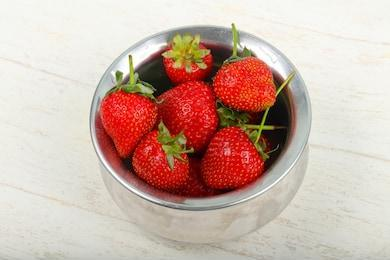Fresa: (150, 78, 232, 157), (97, 81, 165, 162), (124, 122, 197, 197), (195, 123, 270, 195), (210, 49, 282, 116), (160, 35, 217, 87)
